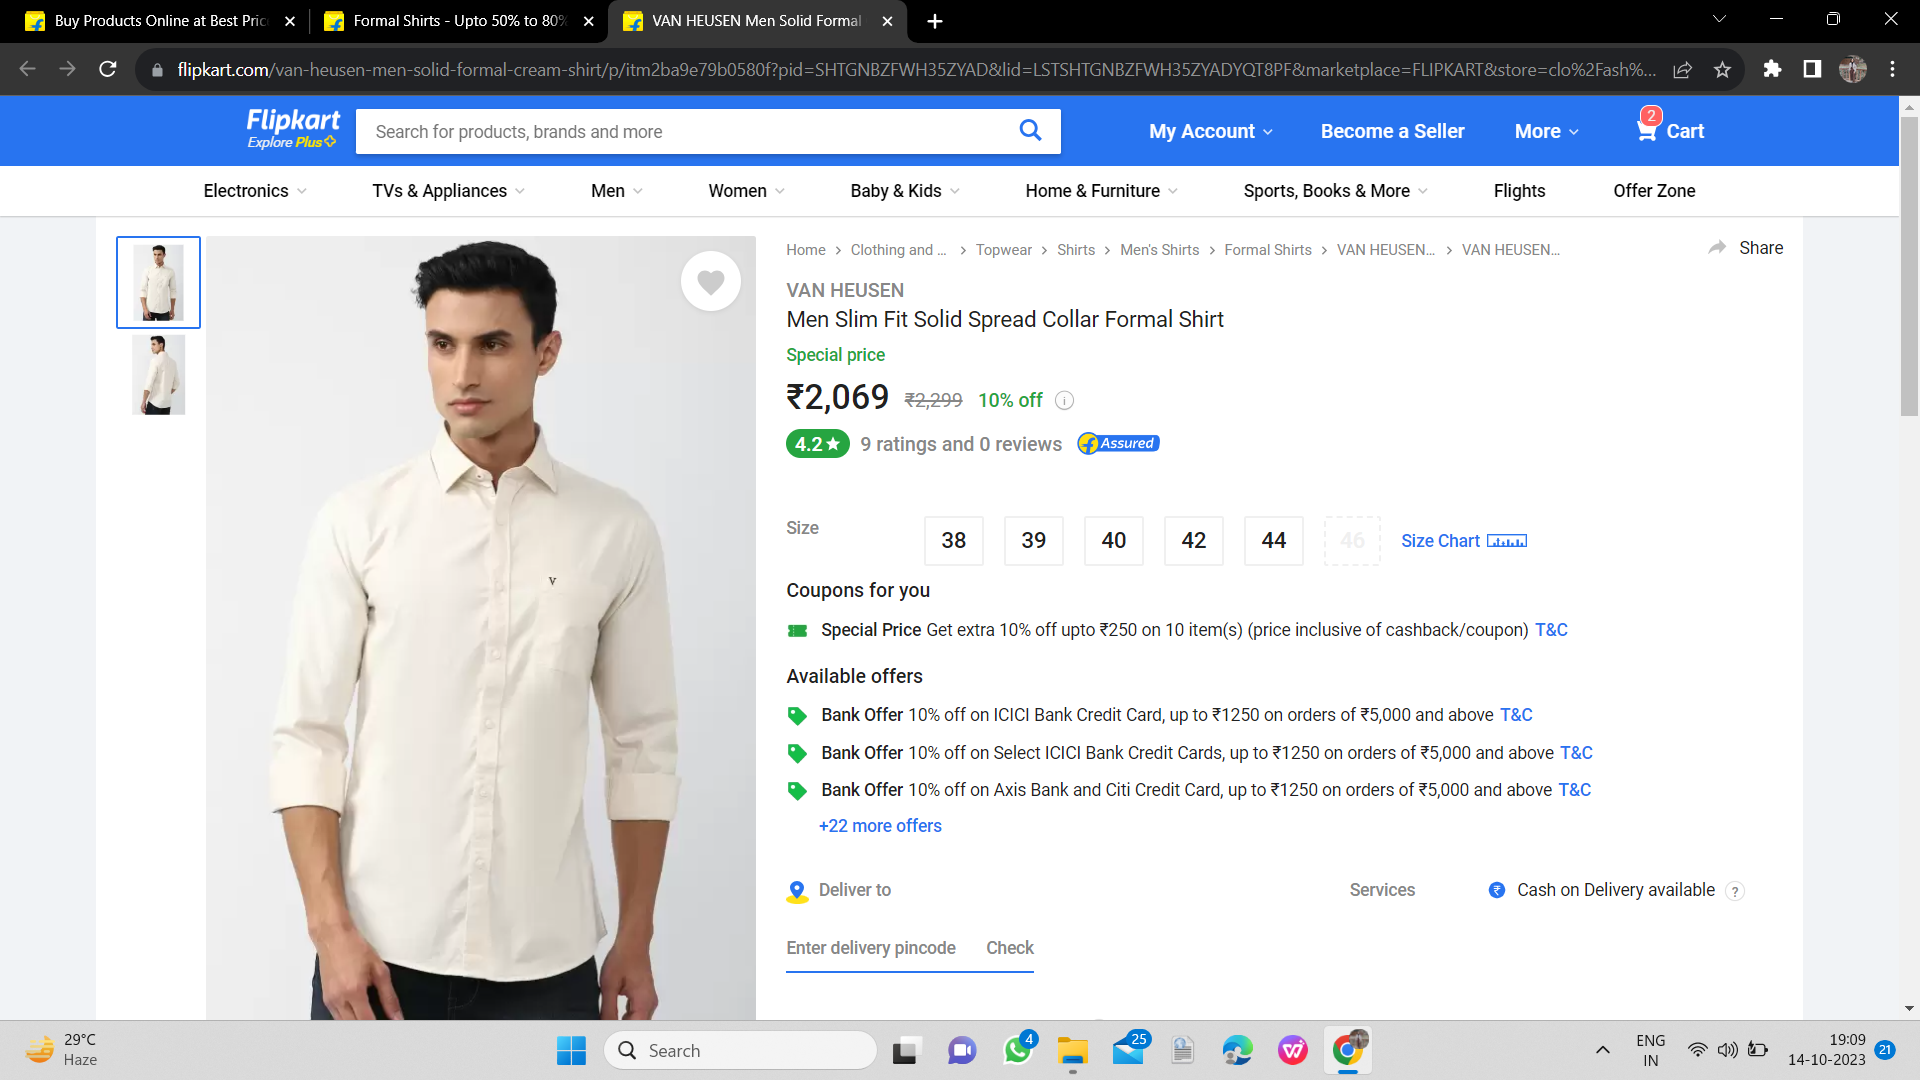Image: (204, 237, 760, 1022)
Paragraph: (774, 702, 1615, 839), (781, 483, 1561, 570), (774, 876, 1042, 984), (1122, 105, 1710, 153), (777, 276, 1229, 332), (1320, 858, 1724, 919), (774, 340, 1083, 418), (774, 617, 1601, 644), (777, 421, 1171, 459), (774, 572, 936, 604), (781, 661, 930, 688), (779, 352, 868, 353)
